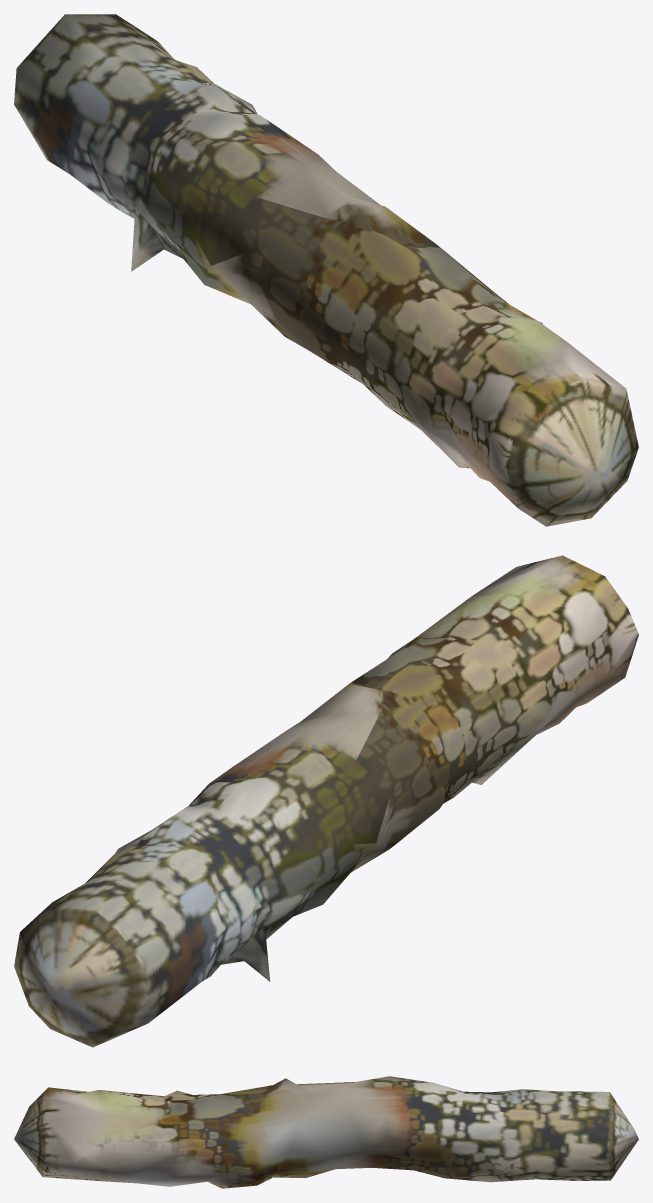
Rendered from birch_log_2.fbx.
The picture shows the model from 3 angles, top to bottom: view 1: azimuth 30°, elevation 25°; view 2: azimuth 150°, elevation 25°; view 3: azimuth 270°, elevation 25°; orthographic projection. The views are drawn at different scales.
Visible parts, largest first — view 1: birch_log_2; view 2: birch_log_2; view 3: birch_log_2.
Boxes of the visible parts, left/top/right/bottom form: birch_log_2: left=14, top=14, right=638, bottom=526; birch_log_2: left=14, top=555, right=638, bottom=1047; birch_log_2: left=14, top=1076, right=638, bottom=1188.
Bounding box in the file's own units: 18.08 × 19.03 × 105.
